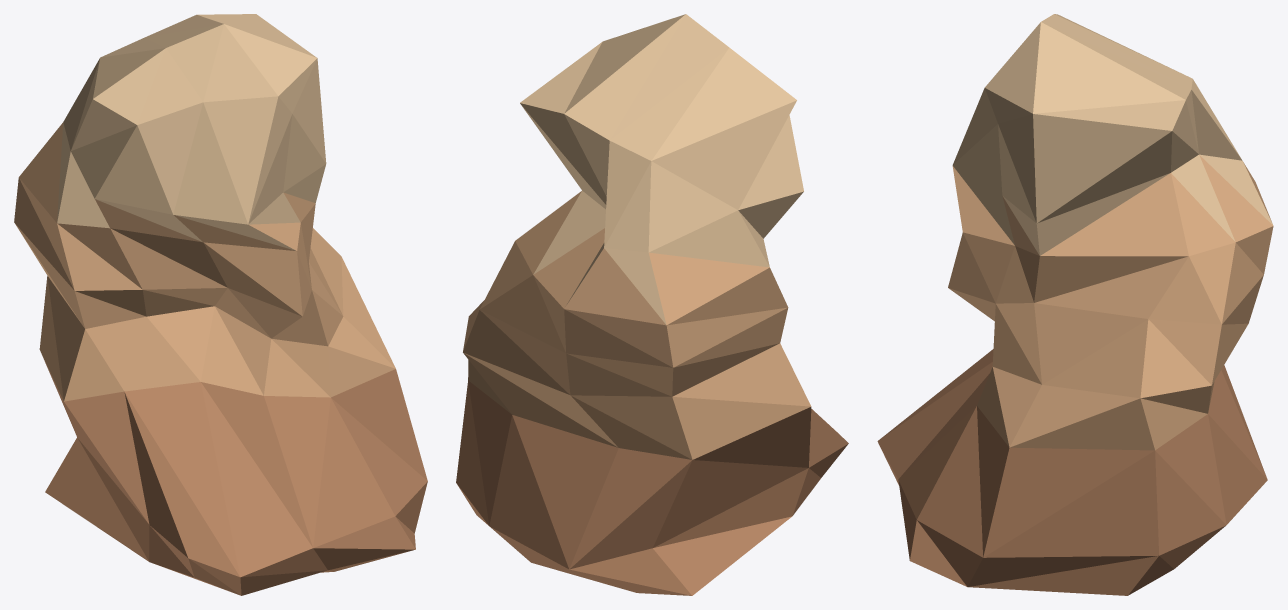
File: canyon-1-3.glb
3 views of the same model, side by side, from view 1: azimuth 30°, elevation 25°; view 2: azimuth 150°, elevation 25°; view 3: azimuth 270°, elevation 25° (orthographic). The views are drawn at different scales.
Visible parts, largest first — view 1: canyon-1-3; view 2: canyon-1-3; view 3: canyon-1-3.
Part boxes in pixels (x1,y1,x2,y2): canyon-1-3: [14, 14, 427, 595]; canyon-1-3: [456, 14, 848, 595]; canyon-1-3: [877, 14, 1273, 595].
Bounding box in the file's own units: 17.31 × 28 × 19.61.
